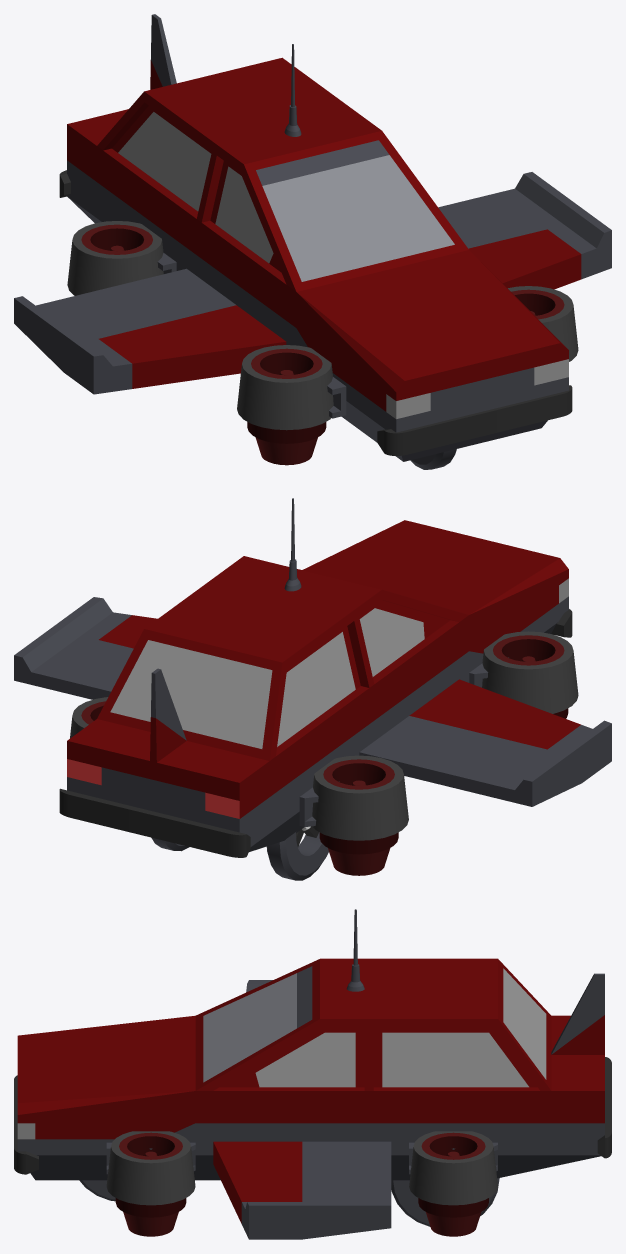
The model's file is FlyingCar2.fbx.
3 views of the same model, one above another, from view 1: azimuth 30°, elevation 25°; view 2: azimuth 150°, elevation 25°; view 3: azimuth 270°, elevation 25° (orthographic). The views are drawn at different scales.
Parts seen in each view (by area): view 1: body_frontLarge, wing_slantWinglet (×2), body_topSports, engine_round (×3), body_topBackStation, body_backSolid, body_standard, bumper, rudder, detailRail_front; view 2: body_topBackStation, wing_slantWinglet (×2), body_backSolid, body_frontLarge, engine_round (×3), body_topSports, body_standard, bumper, wheel_spokes, rudder, detailRail_front, detail_antenna; view 3: body_frontLarge, body_topBackStation, body_topSports, body_backSolid, wing_slantWinglet, engine_round (×2), body_standard, rudder, bumper (×2), wheel_spokes, detail_antenna.
Part boxes in pixels (left/top/right/bottom): body_frontLarge: left=296, top=250, right=568, bottom=461; wing_slantWinglet (×2): left=14, top=172, right=611, bottom=394; body_topSports: left=197, top=109, right=468, bottom=291; engine_round (×3): left=67, top=221, right=578, bottom=465; body_topBackStation: left=97, top=57, right=351, bottom=211; body_backSolid: left=67, top=109, right=198, bottom=275; body_standard: left=196, top=219, right=296, bottom=345; bumper: left=377, top=385, right=572, bottom=455; rudder: left=150, top=14, right=176, bottom=89; detailRail_front: left=327, top=377, right=346, bottom=418; body_topBackStation: left=97, top=578, right=360, bottom=760; wing_slantWinglet (×2): left=14, top=597, right=611, bottom=806; body_backSolid: left=67, top=686, right=369, bottom=851; body_frontLarge: left=302, top=520, right=568, bottom=672; engine_round (×3): left=70, top=631, right=578, bottom=875; body_topSports: left=214, top=556, right=468, bottom=687; body_standard: left=369, top=615, right=469, bottom=744; bumper: left=59, top=788, right=250, bottom=857; wheel_spokes: left=266, top=826, right=328, bottom=880; rudder: left=150, top=668, right=186, bottom=762; detailRail_front: left=299, top=781, right=339, bottom=826; detail_antenna: left=284, top=498, right=301, bottom=591; body_frontLarge: left=17, top=1015, right=195, bottom=1180; body_topBackStation: left=373, top=958, right=551, bottom=1090; body_topSports: left=195, top=958, right=373, bottom=1090; body_backSolid: left=373, top=1015, right=604, bottom=1180; wing_slantWinglet: left=213, top=1141, right=391, bottom=1239; engine_round (×2): left=106, top=1131, right=497, bottom=1236; body_standard: left=195, top=1087, right=373, bottom=1180; rudder: left=551, top=973, right=604, bottom=1054; bumper (×2): left=14, top=1057, right=611, bottom=1174; wheel_spokes: left=391, top=1178, right=499, bottom=1226; detail_antenna: left=346, top=909, right=364, bottom=991.
Bounding box in the file's own units: 30 × 17.98 × 33.6.
